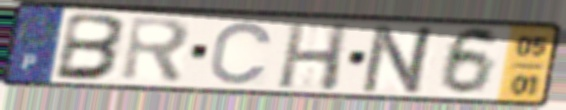6: (433, 25, 505, 101)
B: (51, 10, 131, 82)
C: (206, 19, 276, 87)
H: (274, 22, 354, 94)
N: (356, 23, 442, 97)
R: (118, 14, 195, 86)
